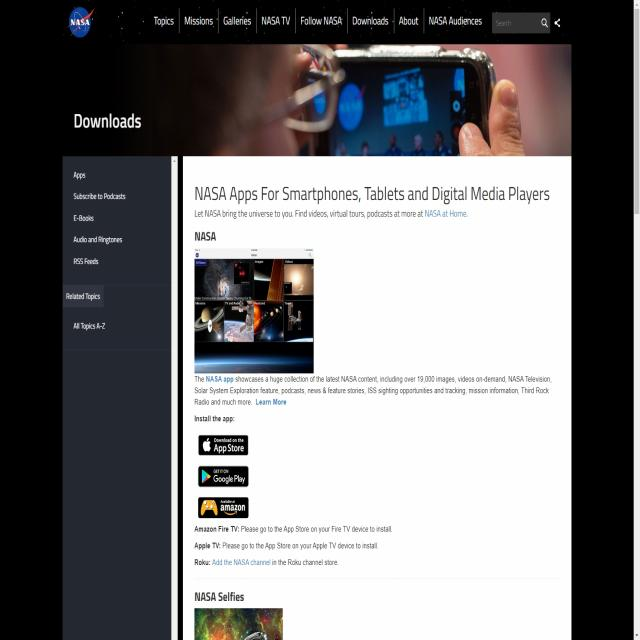menu-panel: (150, 8, 484, 34)
search: (490, 8, 552, 36)
side-panel: (61, 153, 171, 640)
